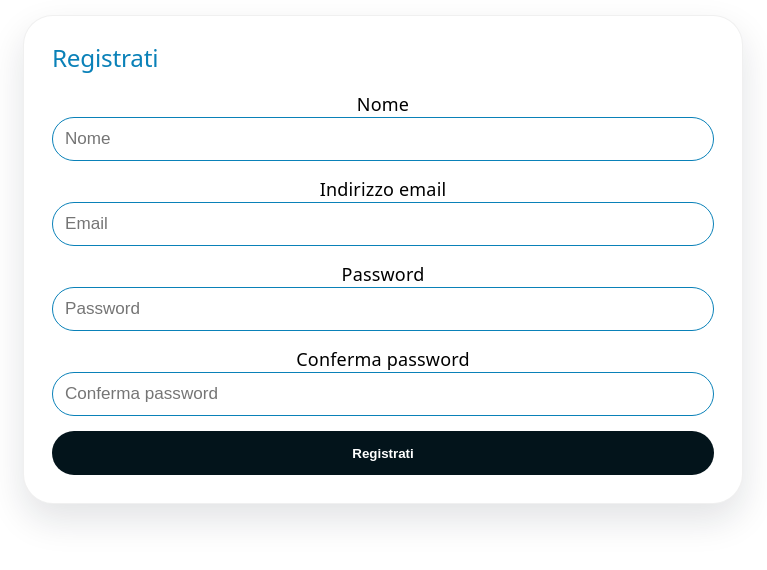
Test case: RegitrationForm inserimento dati non validi › registrazione fallita
The image size is (767, 570).
Type "Test User" into the field labelled "Nome" at coordinates (383, 139), box [52,117,714,161]
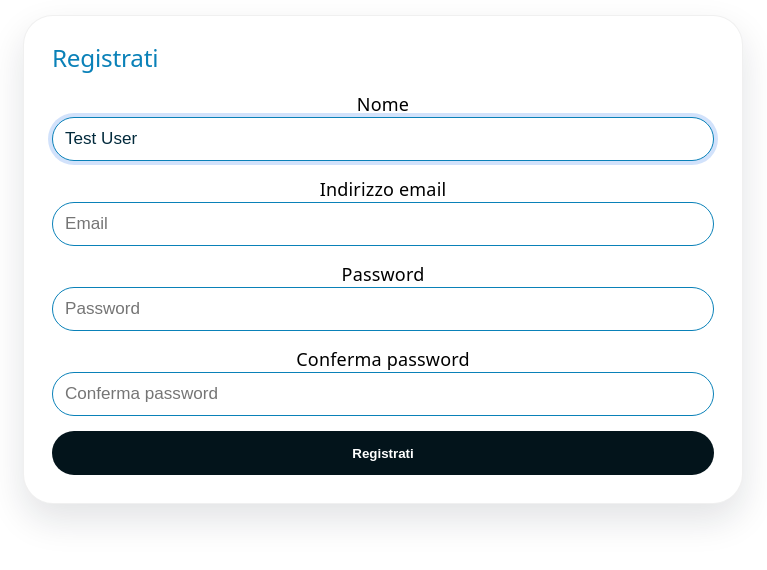
Type "test@example.com" into the field labelled "Indirizzo email" at coordinates (383, 224), box [52,202,714,246]
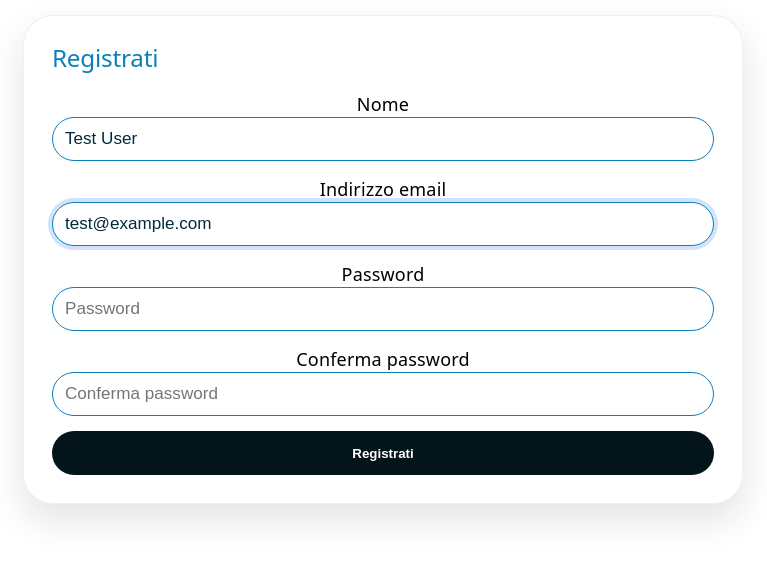
Type "password123" into the password field labelled "Password" at coordinates (383, 309), box [52,287,714,331]
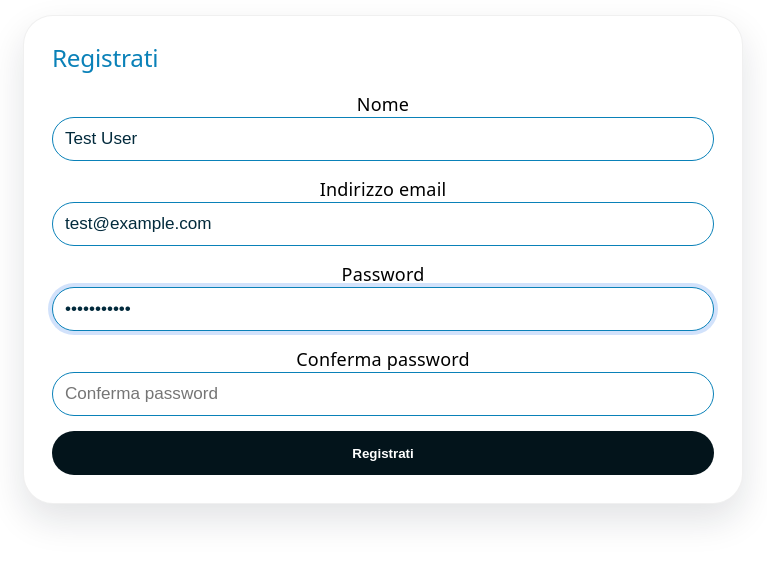
Type "password123" into the password field labelled "Conferma password" at coordinates (383, 394), box [52,372,714,416]
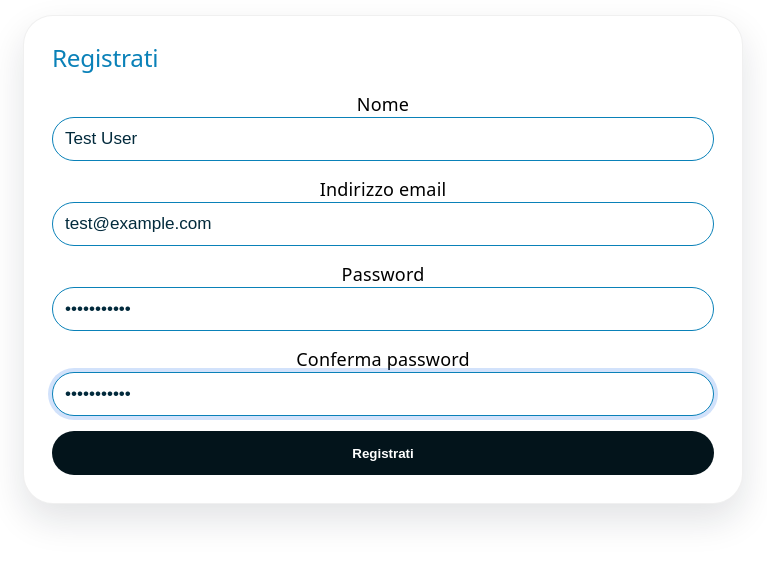
Click the button "Registrati" at coordinates (383, 453), box [52,431,714,475]
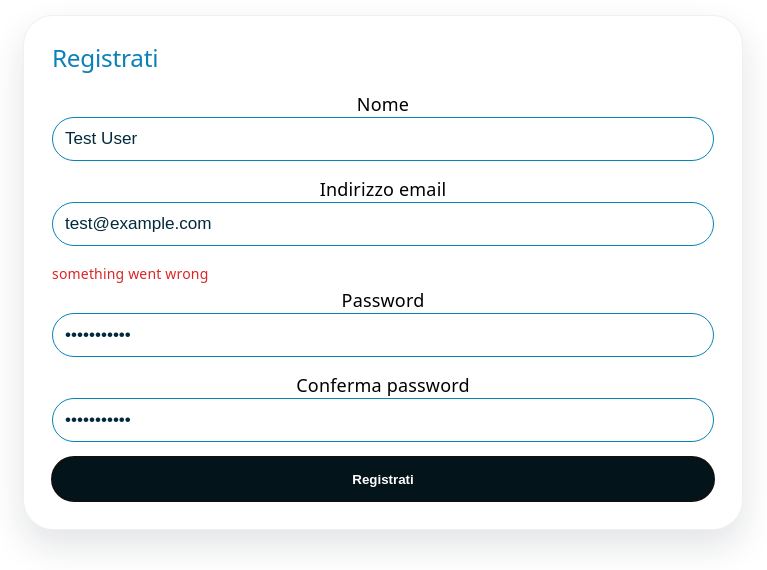
Check: the text "something went wrong" is shown, box [52,264,208,283]
